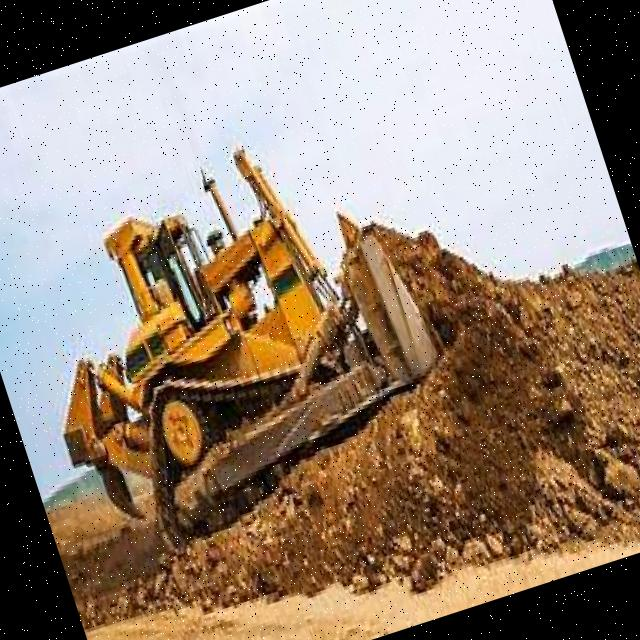Bulldozer: (0, 85, 496, 584)
